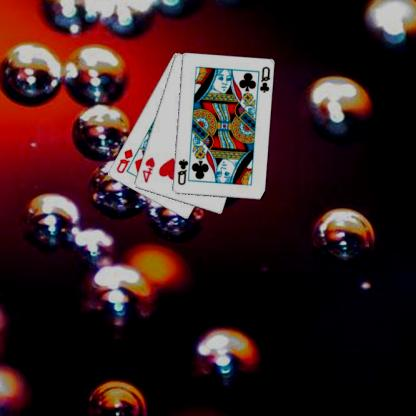4H: (142, 155, 158, 184)
QC: (176, 157, 191, 186), (259, 64, 273, 94)
QD: (115, 146, 135, 175)
